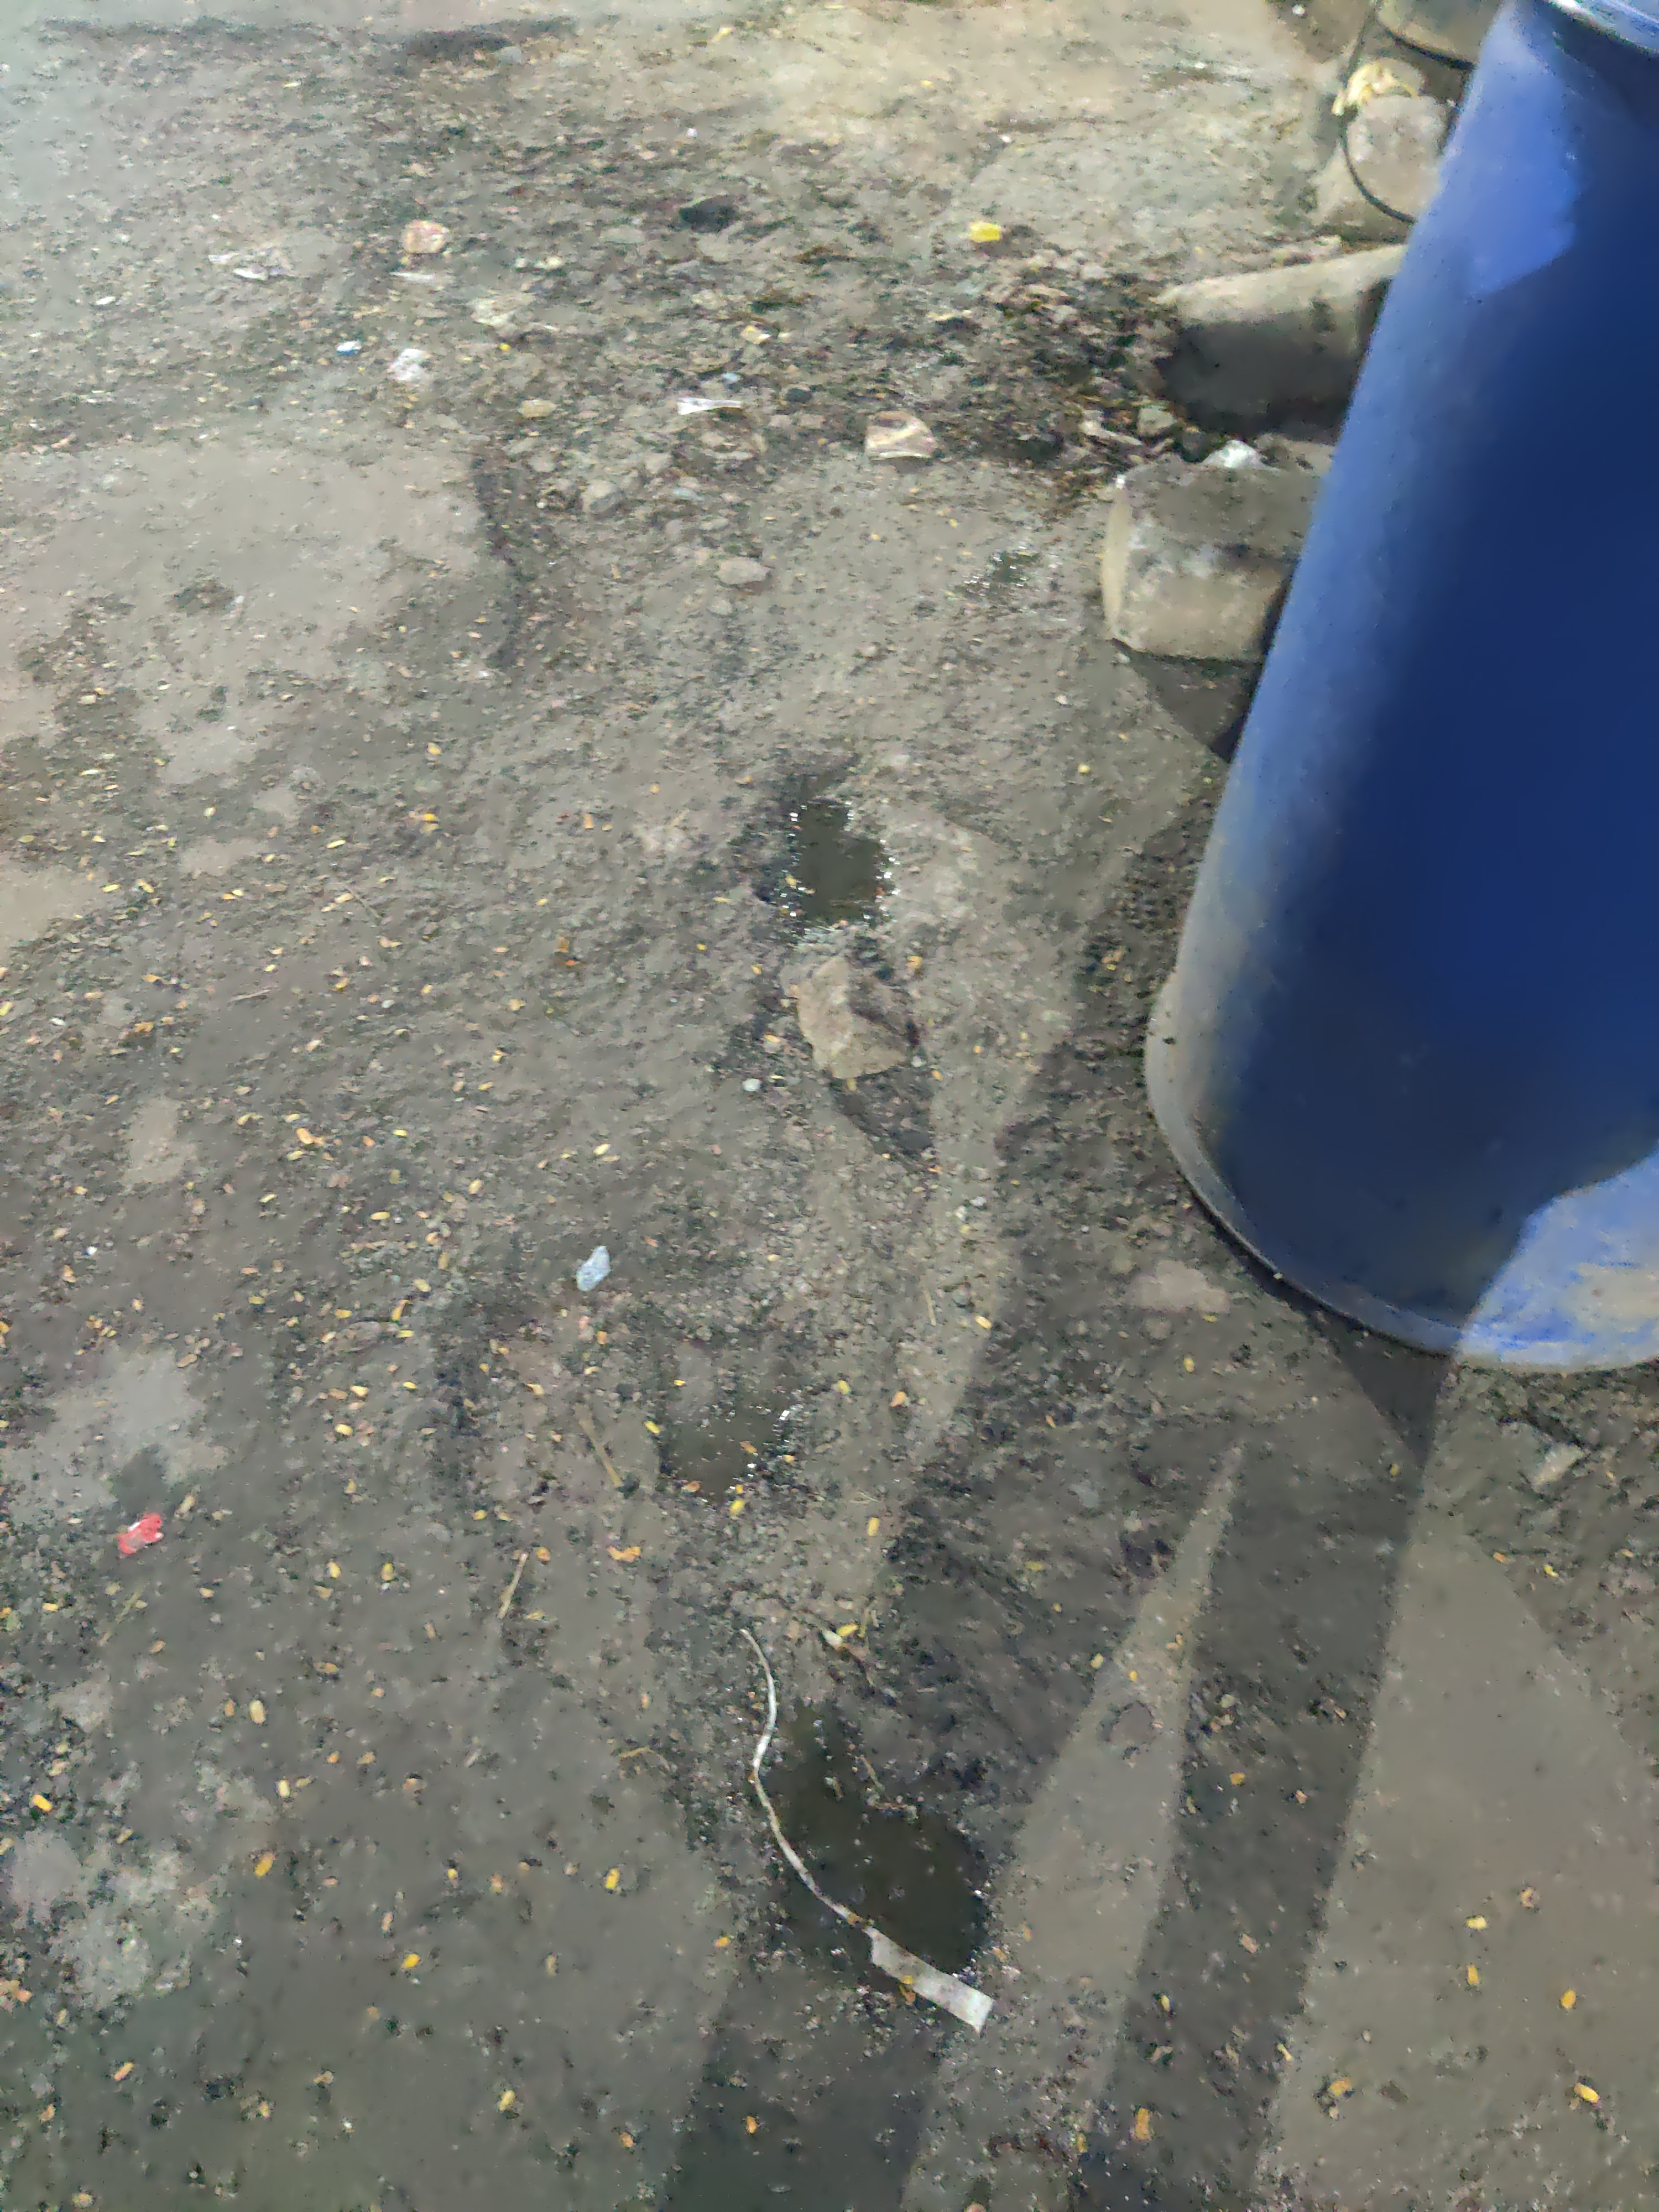potholes: (0, 16, 1183, 637)
